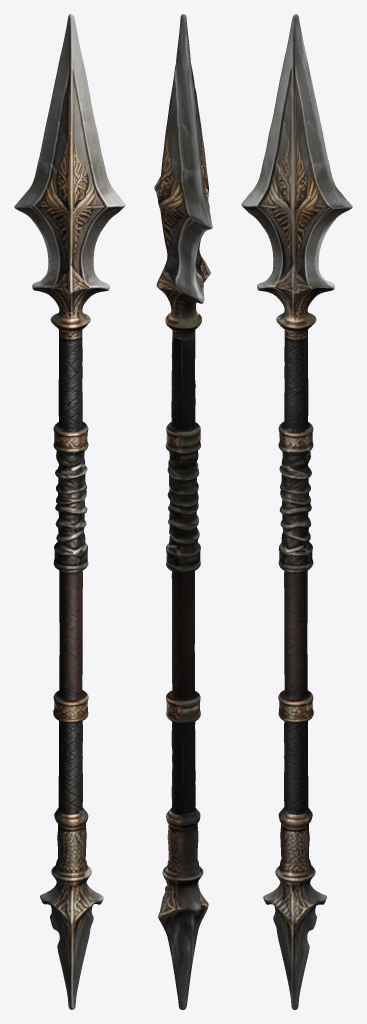
File: black_pike.glb
3 views of the same model, side by side, from view 1: azimuth 90°, elevation 25°; view 2: azimuth 210°, elevation 25°; view 3: azimuth 270°, elevation 25° (orthographic).
Parts seen in each view (by area): view 1: black_pike; view 2: black_pike; view 3: black_pike.
Boxes of the visible parts, left/top/right/bottom form: black_pike: left=14, top=14, right=125, bottom=1009; black_pike: left=154, top=14, right=212, bottom=1009; black_pike: left=241, top=14, right=352, bottom=1009.
Bounding box in the file's own units: 0.1297 × 2.3 × 0.2327.
1 material, 1 textured.
